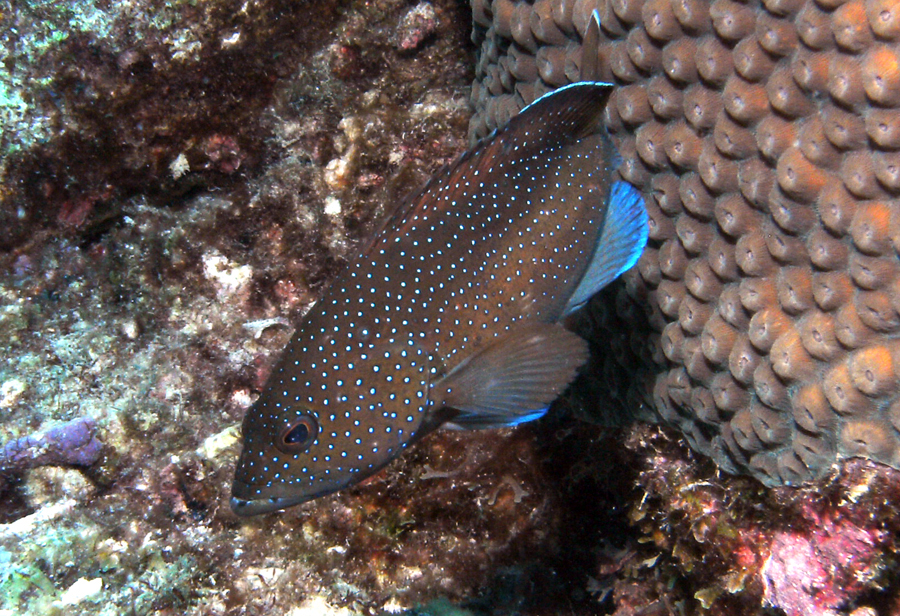Cephalopholis_fulvaw: (205, 83, 652, 511)
